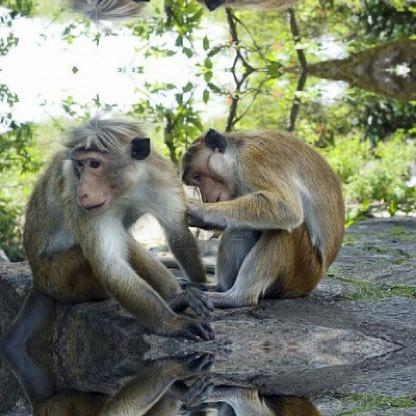Monkey: (0, 113, 216, 346), (171, 126, 341, 304), (0, 347, 217, 415)
